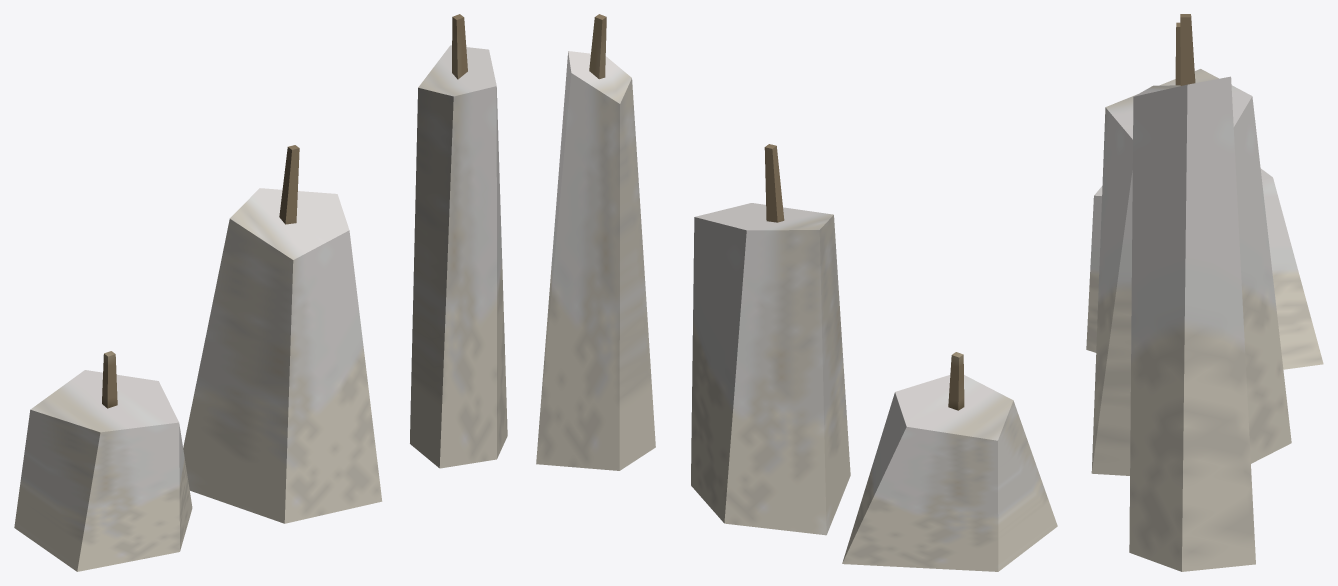
Rendered from Candles.fbx.
3 views of the same model, side by side, from view 1: azimuth 30°, elevation 25°; view 2: azimuth 150°, elevation 25°; view 3: azimuth 270°, elevation 25° (orthographic). The views are drawn at different scales.
Parts seen in each view (by area): view 1: Cylinder, Cylinder.001, Cylinder.002; view 2: Cylinder, Cylinder.001, Cylinder.002; view 3: Cylinder.001, Cylinder, Cylinder.002.
Boxes of the visible parts, x1=… form: Cylinder: x1=183, y1=145, x2=382, y2=523; Cylinder.001: x1=410, y1=14, x2=507, y2=468; Cylinder.002: x1=14, y1=351, x2=192, y2=571; Cylinder: x1=691, y1=144, x2=850, y2=535; Cylinder.001: x1=536, y1=14, x2=655, y2=470; Cylinder.002: x1=842, y1=352, x2=1057, y2=571; Cylinder.001: x1=1129, y1=14, x2=1255, y2=571; Cylinder: x1=1091, y1=22, x2=1291, y2=475; Cylinder.002: x1=1086, y1=168, x2=1323, y2=369.
Bounding box in the file's own units: 12.29 × 10.83 × 4.41.
1 material, 1 textured.
